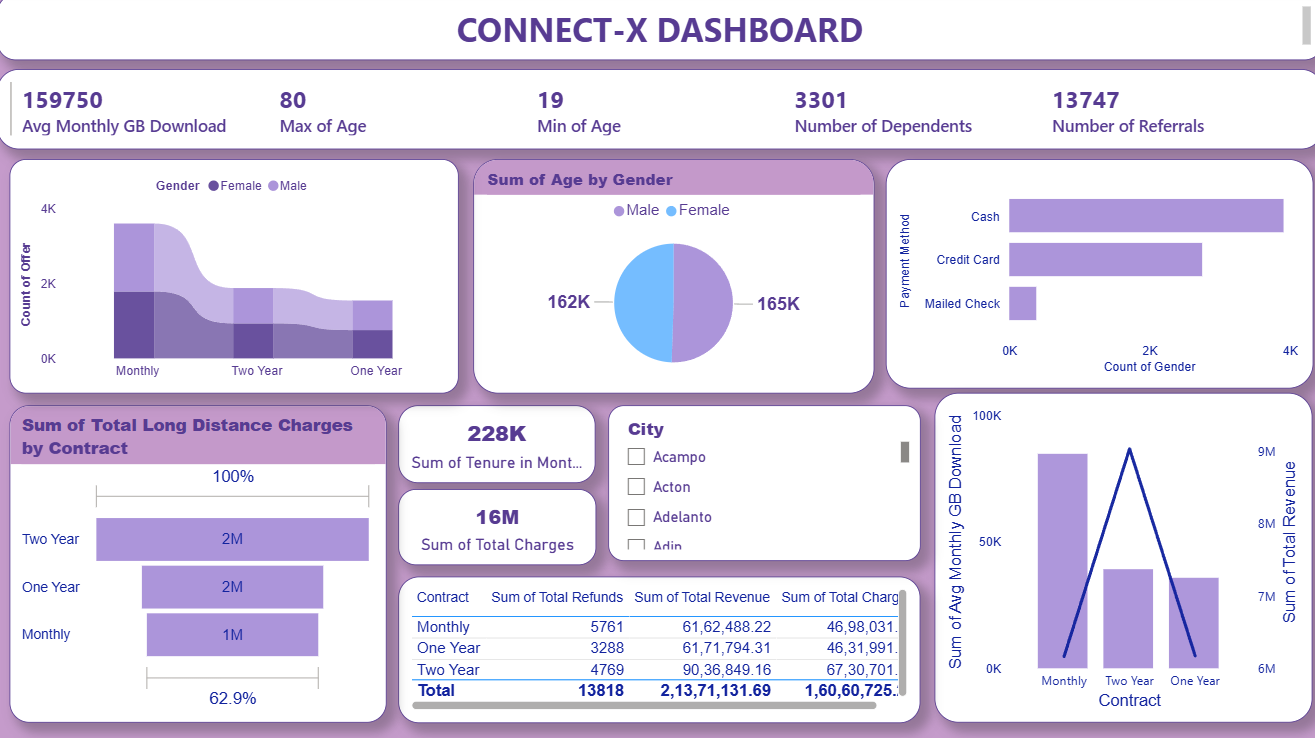

The dashboard page shown, as its layout file describes it:
{"tool":"powerbi","page":{"name":"Page 5","canvas":[1280,720],"ordinal":4},"visuals":[{"type":"textbox","box":[0,0,1280,63.8],"z":0},{"type":"multiRowCard","fields":{"Values":["Sum(ConnectX.Avg Monthly GB Download)","Max(ConnectX.Age)","Min(ConnectX.Age)1","Sum(ConnectX.Number of Dependents)","Sum(ConnectX.Number of Referrals)"]},"box":[0,72.5,1280,77.5],"z":1000},{"type":"card","fields":{"Values":["Sum(ConnectX.Tenure in Months)"]},"box":[387.5,397.5,190,75],"z":2000},{"type":"card","fields":{"Values":["Sum(ConnectX.Total Charges)"]},"box":[387.5,477.5,191.2,73.8],"z":3000},{"type":"pieChart","fields":{"Y":["Sum(ConnectX.Age)"],"Category":["ConnectX.Gender"]},"box":[460,158.8,387.5,226.2],"z":4000},{"type":"barChart","fields":{"Category":["ConnectX.Payment Method"],"Y":["CountNonNull(ConnectX.Gender)"]},"box":[857.5,158.8,412.5,221.2],"z":5000},{"type":"lineStackedColumnComboChart","fields":{"Category":["ConnectX.Contract"],"Y":["Sum(ConnectX.Avg Monthly GB Download)"],"Y2":["Sum(ConnectX.Total Revenue)"]},"box":[905,385,365,318.8],"z":6000},{"type":"tableEx","fields":{"Values":["ConnectX.Contract","Sum(ConnectX.Total Refunds)","Sum(ConnectX.Total Revenue)","Sum(ConnectX.Total Charges)"]},"box":[387.5,562.5,503.8,141.2],"z":7000},{"type":"funnel","fields":{"Category":["ConnectX.Contract"],"Y":["Sum(ConnectX.Total Long Distance Charges)"]},"box":[12.5,397.5,363.8,306.2],"z":8000},{"type":"ribbonChart","fields":{"Category":["ConnectX.Contract"],"Y":["CountNonNull(ConnectX.Offer)"],"Series":["ConnectX.Gender"]},"box":[12.5,158.8,433.8,226.2],"z":9000},{"type":"slicer","fields":{"Values":["ConnectX.City"]},"box":[590,397.5,301.2,150],"z":10000}]}

Visuals, with their boxes in screenshot pixels (x1, y1, x2, y2), scaled from the page's 1280x720 canvas onto the 1315x738 screenshot:
textbox: (left=0, top=0, right=1314, bottom=65)
multiRowCard - Sum(ConnectX.Avg Monthly GB Download) x Max(ConnectX.Age): (left=0, top=74, right=1314, bottom=154)
card - Sum(ConnectX.Tenure in Months): (left=398, top=407, right=593, bottom=484)
card - Sum(ConnectX.Total Charges): (left=398, top=489, right=595, bottom=565)
pieChart - Sum(ConnectX.Age) x ConnectX.Gender: (left=473, top=163, right=871, bottom=395)
barChart - ConnectX.Payment Method x CountNonNull(ConnectX.Gender): (left=881, top=163, right=1305, bottom=389)
lineStackedColumnComboChart - ConnectX.Contract x Sum(ConnectX.Avg Monthly GB Download): (left=930, top=395, right=1305, bottom=721)
tableEx - ConnectX.Contract x Sum(ConnectX.Total Refunds): (left=398, top=577, right=916, bottom=721)
funnel - ConnectX.Contract x Sum(ConnectX.Total Long Distance Charges): (left=13, top=407, right=387, bottom=721)
ribbonChart - ConnectX.Contract x CountNonNull(ConnectX.Offer): (left=13, top=163, right=459, bottom=395)
slicer - ConnectX.City: (left=606, top=407, right=916, bottom=561)
